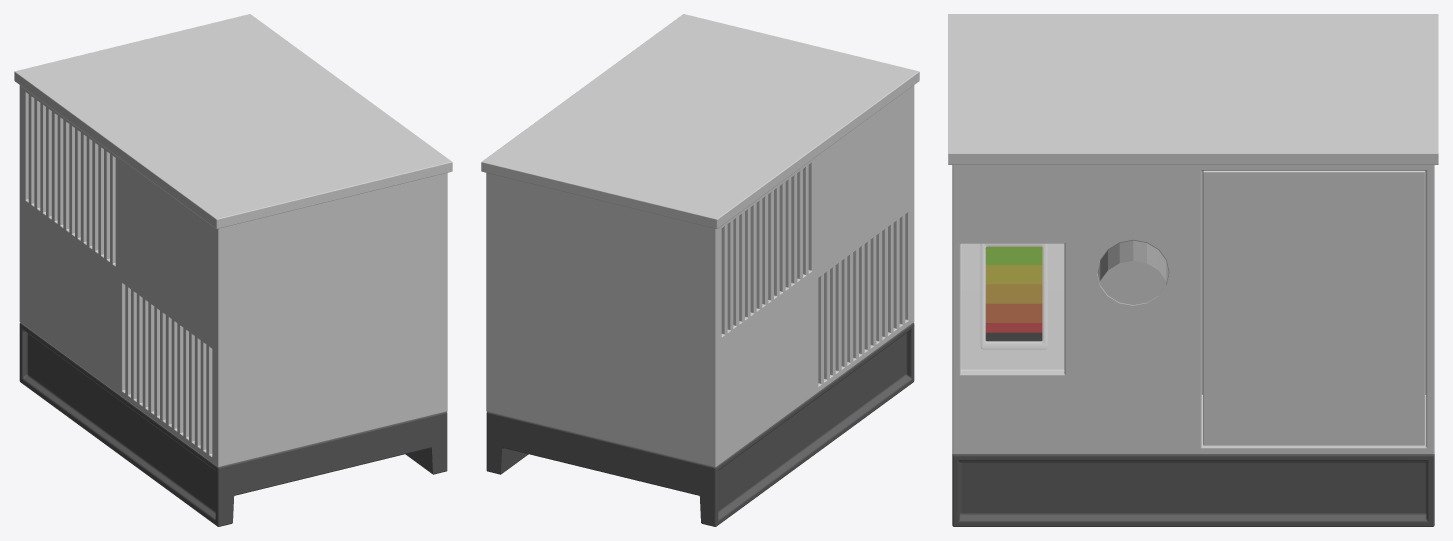
The model's file is generator.fbx.
3 renders of one model, left to right at view 1: azimuth 30°, elevation 25°; view 2: azimuth 150°, elevation 25°; view 3: azimuth 270°, elevation 25°, orthographic. The views are drawn at different scales.
Parts seen in each view (by area): view 1: Cube.002; view 2: Cube.002; view 3: Cube.002.
Part boxes in pixels (x1,y1,x2,y2): Cube.002: (14, 14, 452, 526); Cube.002: (481, 14, 919, 526); Cube.002: (948, 14, 1438, 526).
Bounding box in the file's own units: 206 × 258 × 305.
